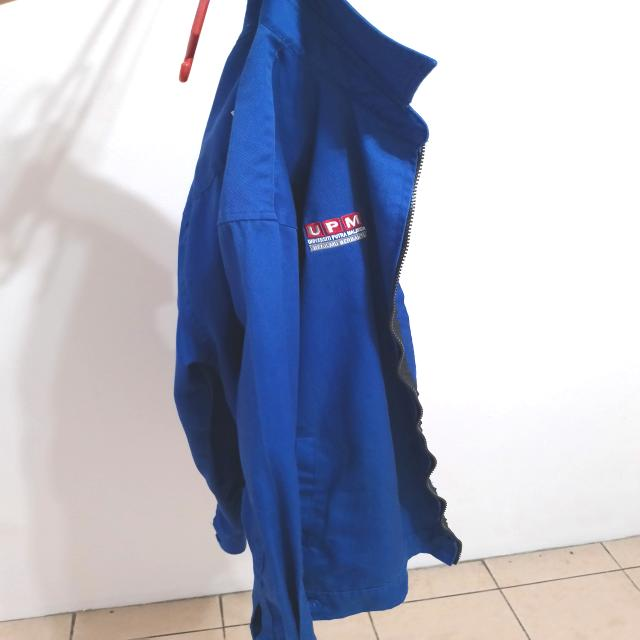person_without_labcoat: (175, 0, 461, 640)
